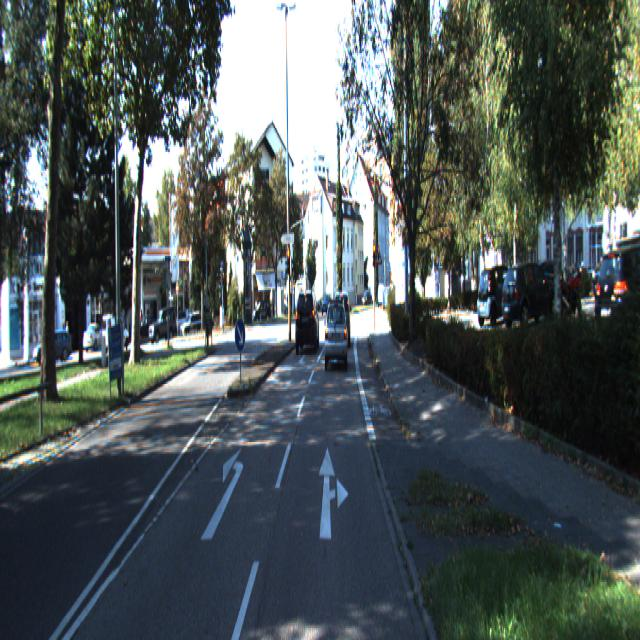Car: (501, 258, 562, 327), (477, 262, 530, 327), (325, 304, 348, 372), (296, 290, 319, 353), (333, 291, 350, 346)
